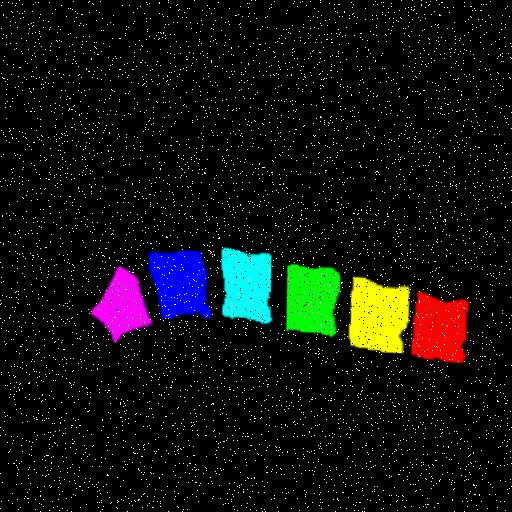L1: (403, 296, 461, 368)
L2: (343, 282, 402, 357)
L3: (279, 268, 331, 337)
L4: (215, 251, 263, 325)
L5: (143, 252, 204, 320)
S1: (85, 267, 144, 342)
